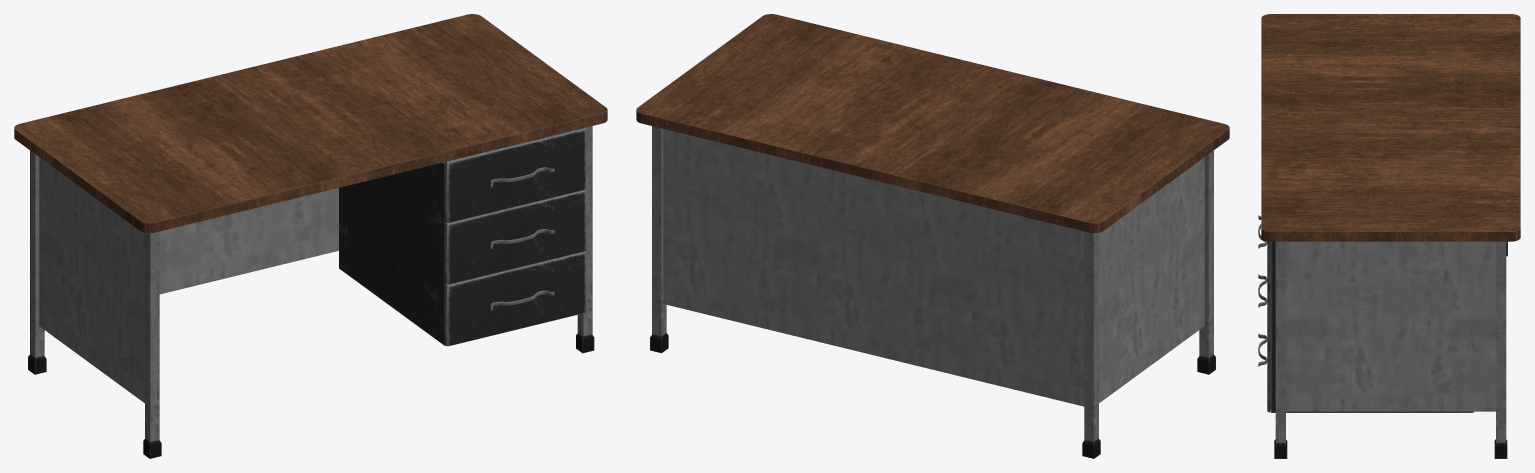
File: Desk.fbx
3 views of the same model, side by side, from view 1: azimuth 30°, elevation 25°; view 2: azimuth 150°, elevation 25°; view 3: azimuth 270°, elevation 25° (orthographic). The views are drawn at different scales.
Parts seen in each view (by area): view 1: Desk, DeskDrawerShelf.001, DeskDrawerShelf.003, DeskDrawerShelf.002; view 2: Desk; view 3: Desk, DeskDrawerShelf.003, DeskDrawerShelf.002, DeskDrawerShelf.001.
Boxes of the visible parts, box(x1,y1,x2,y2) form: Desk: box(14, 14, 607, 458); DeskDrawerShelf.001: box(444, 127, 585, 222); DeskDrawerShelf.003: box(444, 251, 585, 346); DeskDrawerShelf.002: box(444, 189, 585, 284); Desk: box(636, 14, 1229, 458); Desk: box(1261, 14, 1520, 458); DeskDrawerShelf.003: box(1258, 333, 1270, 412); DeskDrawerShelf.002: box(1258, 274, 1270, 353); DeskDrawerShelf.001: box(1258, 215, 1270, 294).
Size of the model in its own units: 211 by 105 by 107.
